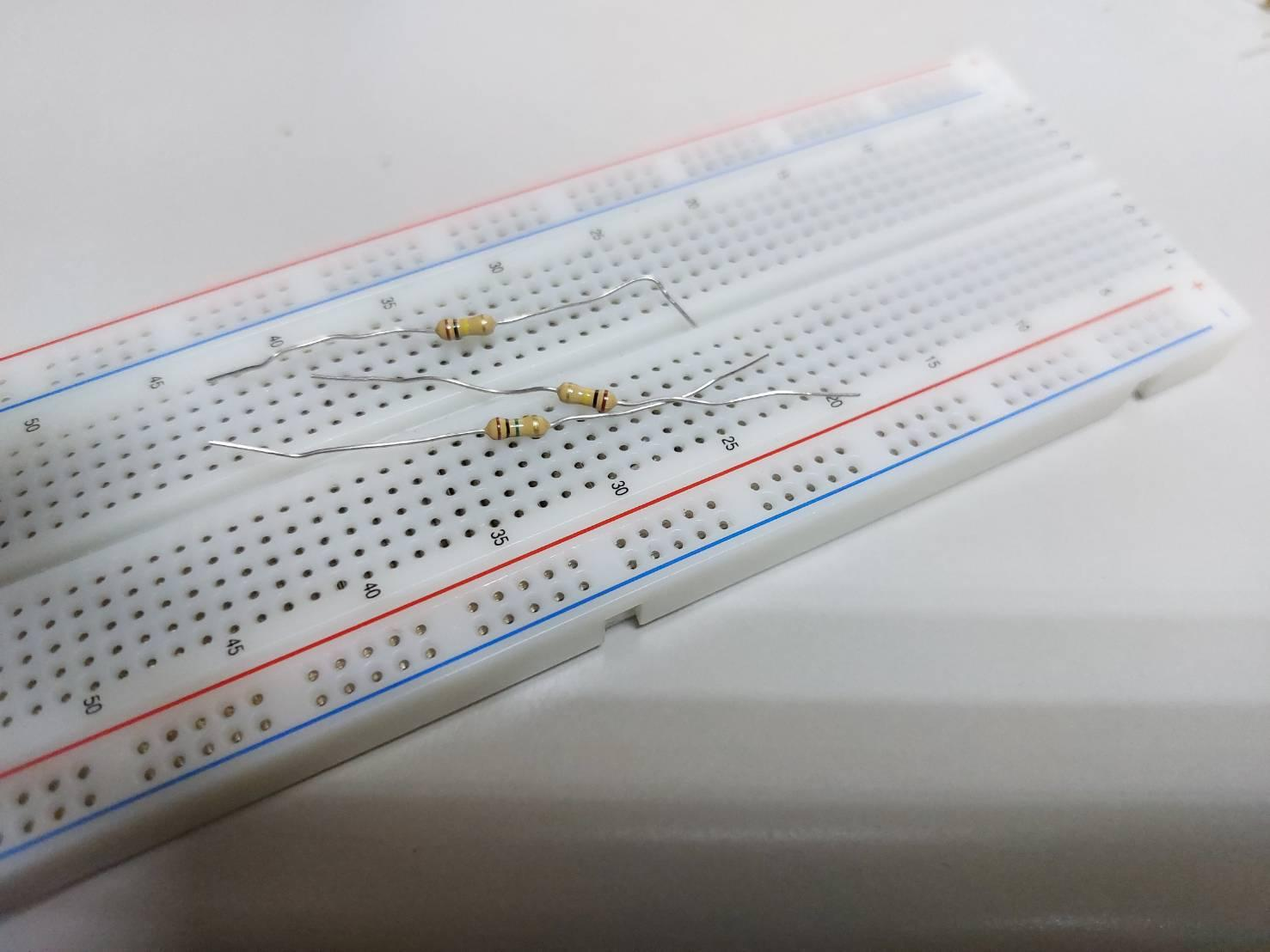resistor: (559, 380, 618, 413), (485, 414, 551, 441), (435, 314, 496, 339)
